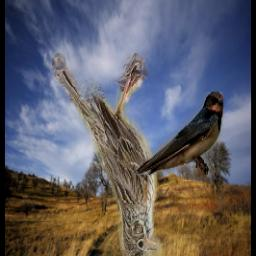Sparrow: (53, 54, 164, 256)
Swallow: (137, 93, 224, 176)
